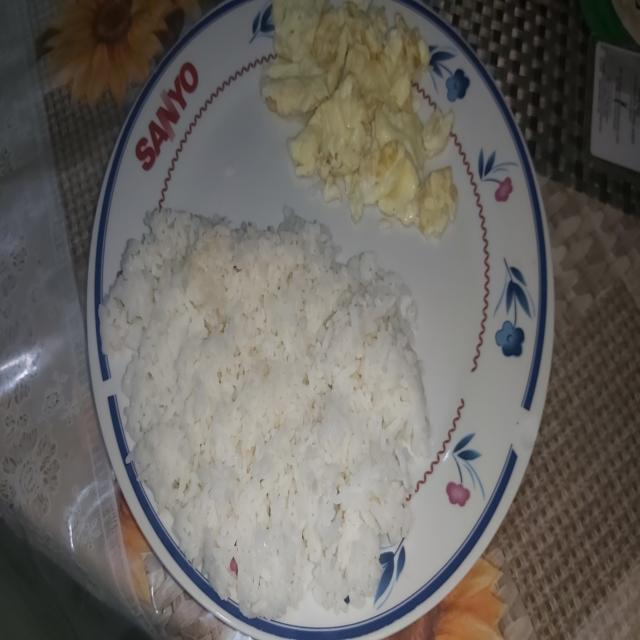Chicken -Chicken Inasal-: (104, 199, 410, 610)
